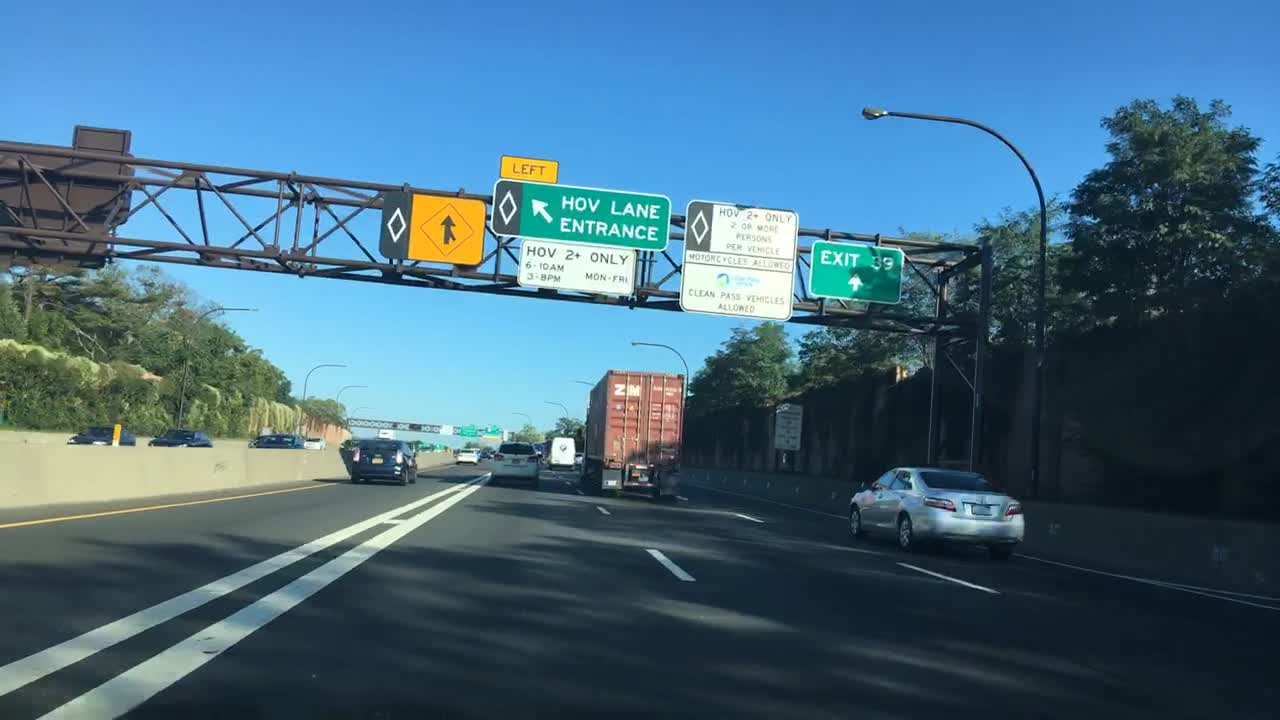car: (845, 465, 1030, 558), (343, 437, 420, 481), (490, 440, 546, 482), (67, 424, 134, 447), (148, 427, 209, 449), (546, 435, 580, 466), (247, 431, 304, 449), (459, 449, 480, 466), (304, 435, 321, 450)
traffic sign: (0, 121, 137, 274), (492, 155, 671, 249), (682, 197, 794, 320), (378, 190, 484, 267), (521, 238, 635, 299), (807, 239, 904, 303), (771, 401, 803, 454), (461, 421, 476, 437), (481, 424, 497, 435), (440, 425, 451, 435)
truck: (581, 369, 686, 499)
